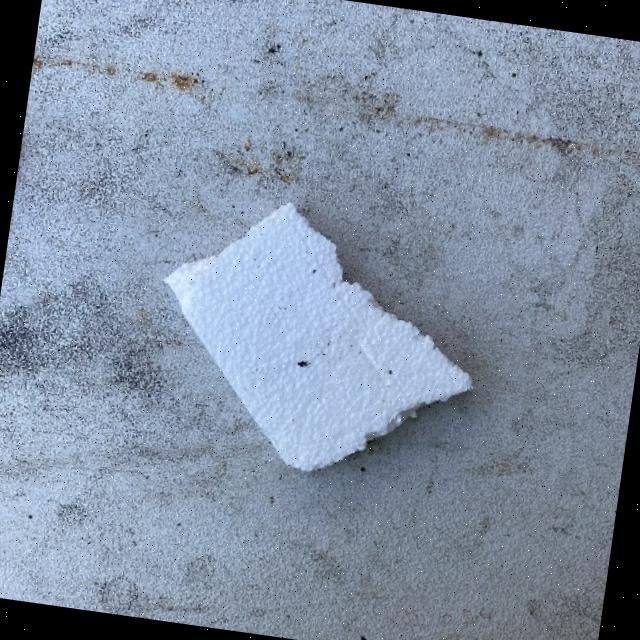styrofoam: (138, 184, 496, 494)
